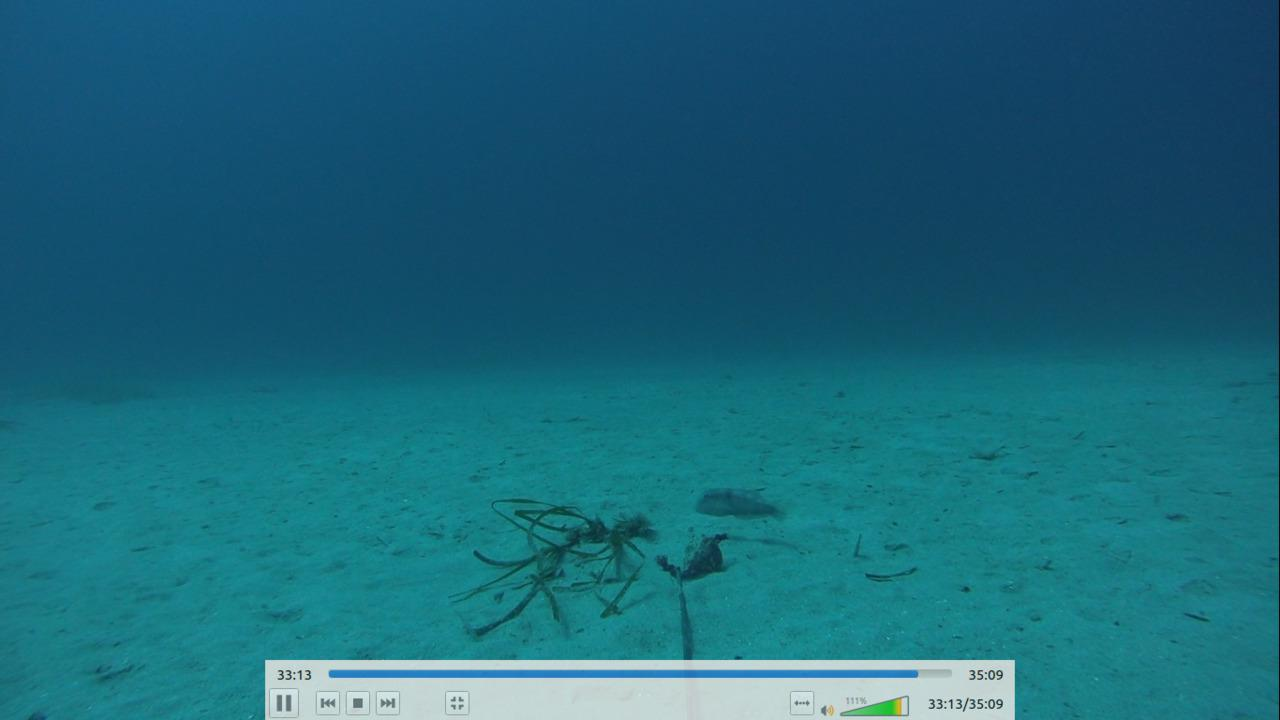raor: (688, 479, 791, 524)
